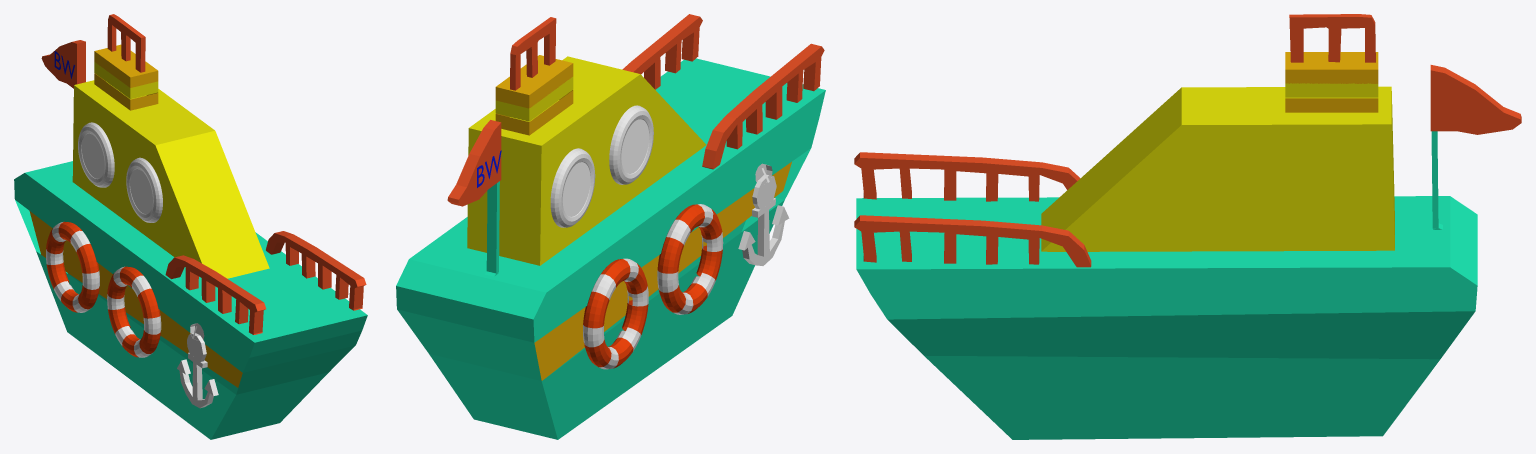
The model's file is boat.glb.
3 renders of one model, left to right at view 1: azimuth 30°, elevation 25°; view 2: azimuth 150°, elevation 25°; view 3: azimuth 270°, elevation 25°, orthographic. The views are drawn at different scales.
Parts seen in each view (by area): view 1: Plane, Plane.004, Torus.004, Torus.002, Cube.009, Cube.004, Torus.003, Torus.001, Torus.005, Torus.006, Cylinder.002, Cylinder.001; view 2: Plane, Plane.004, Torus.002, Torus.004, Cube.009, Cube.004, Torus.003, Torus.001, Torus.005, Torus.006, Cylinder.002, Cylinder.001; view 3: Plane, Cube.004.
Part boxes in pixels (bbox=[...]): Plane: bbox=[14, 14, 367, 439]; Plane.004: bbox=[29, 211, 242, 387]; Torus.004: bbox=[107, 266, 160, 357]; Torus.002: bbox=[46, 221, 99, 312]; Cube.009: bbox=[177, 323, 218, 408]; Cube.004: bbox=[41, 40, 85, 88]; Torus.003: bbox=[107, 266, 161, 357]; Torus.001: bbox=[46, 222, 99, 312]; Torus.005: bbox=[78, 122, 114, 187]; Torus.006: bbox=[126, 157, 162, 222]; Cylinder.002: bbox=[81, 133, 104, 178]; Cylinder.001: bbox=[130, 169, 152, 213]; Plane: bbox=[396, 14, 825, 439]; Plane.004: bbox=[534, 162, 791, 380]; Torus.002: bbox=[583, 259, 648, 368]; Torus.004: bbox=[657, 204, 722, 313]; Cube.009: bbox=[738, 163, 789, 265]; Cube.004: bbox=[447, 120, 501, 206]; Torus.003: bbox=[657, 204, 723, 314]; Torus.001: bbox=[583, 258, 648, 369]; Torus.005: bbox=[550, 148, 595, 227]; Torus.006: bbox=[609, 105, 653, 184]; Cylinder.002: bbox=[562, 162, 590, 216]; Cylinder.001: bbox=[621, 119, 649, 173]; Plane: bbox=[854, 14, 1477, 439]; Cube.004: bbox=[1430, 65, 1521, 134].
Bounding box in the file's own units: 0.9966 × 2.4 × 3.57.
